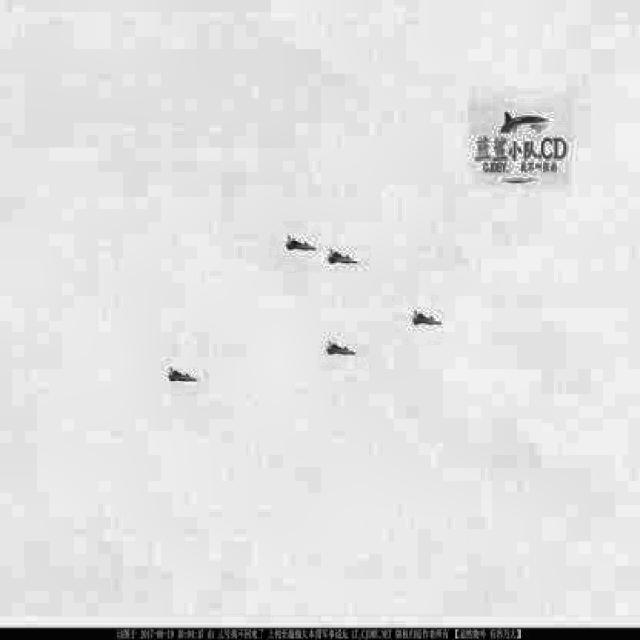J20: (285, 234, 317, 252), (326, 248, 359, 264), (410, 310, 442, 325), (325, 340, 357, 355), (166, 367, 197, 382)
